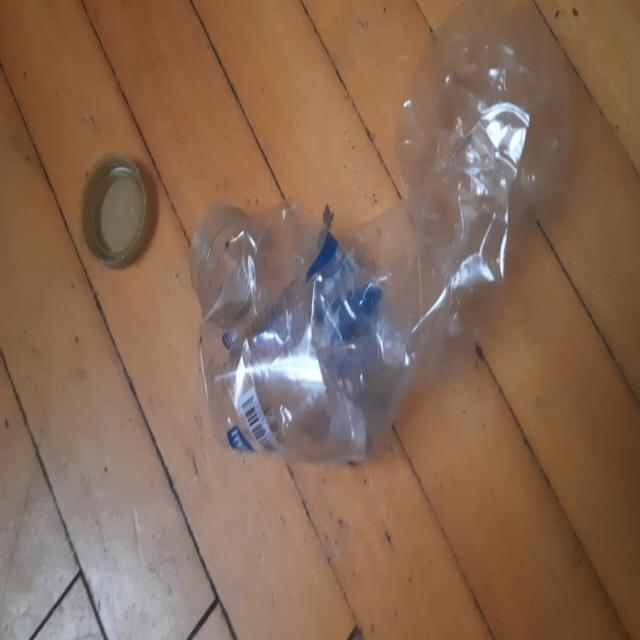Plastic: (192, 1, 570, 465)
